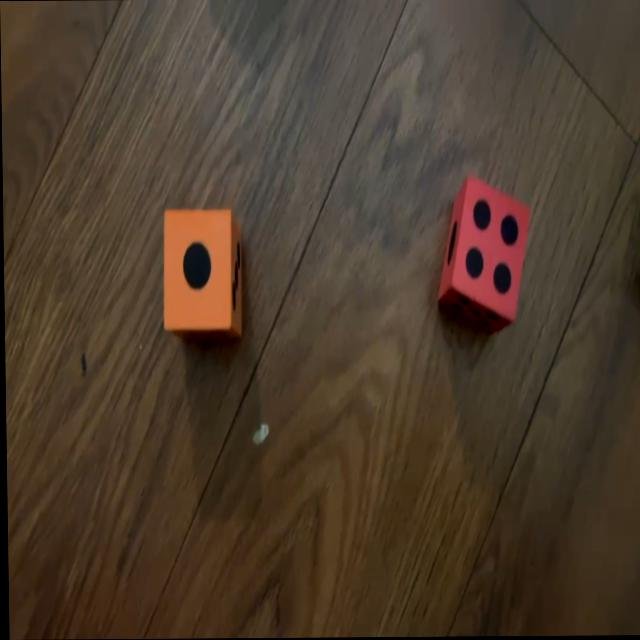red_block: (433, 176, 531, 330)
